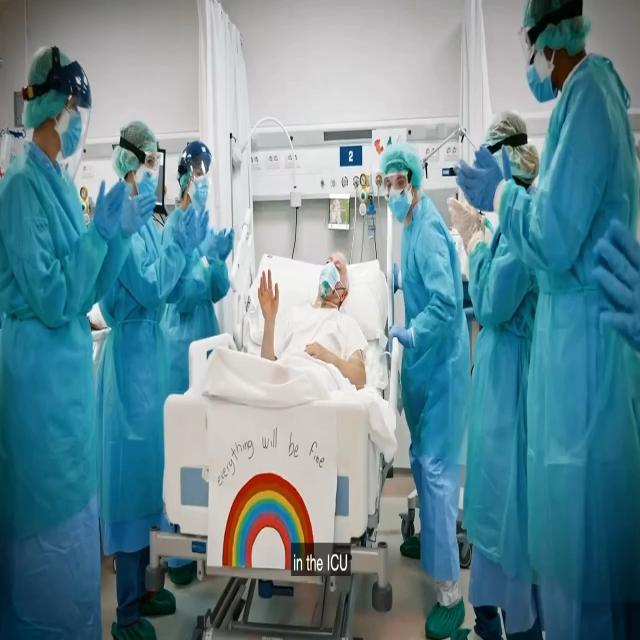Movement-Yes: (256, 236, 370, 392)
